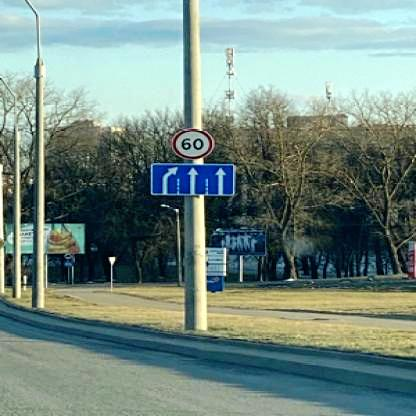Speed Limit -60-: (172, 127, 216, 161)
